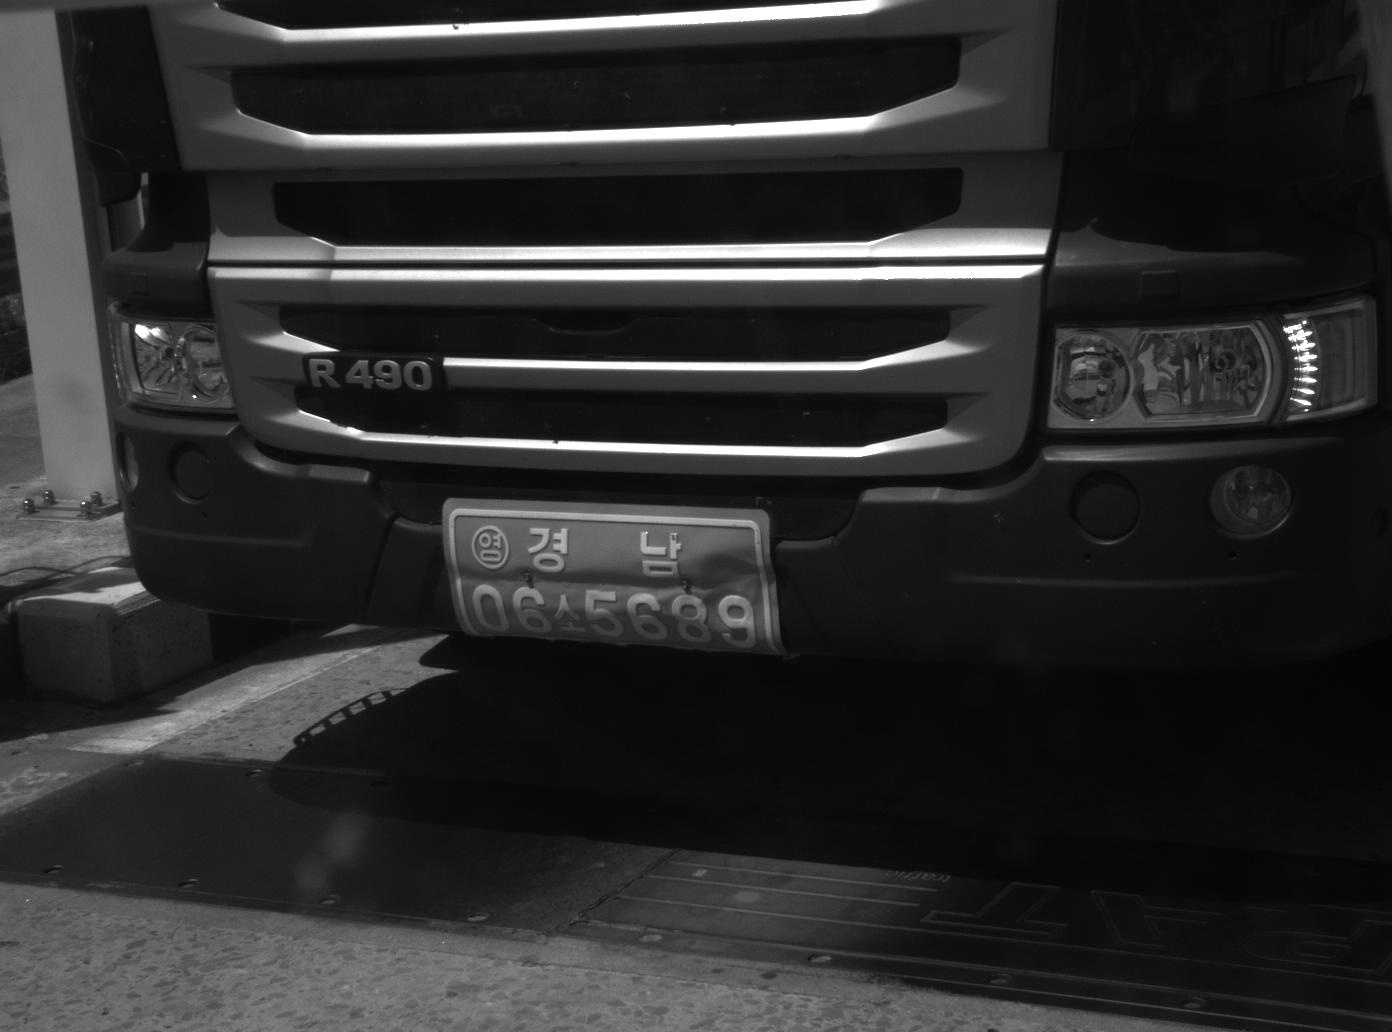car: (52, 1, 1387, 690)
plate: (441, 495, 783, 658)
